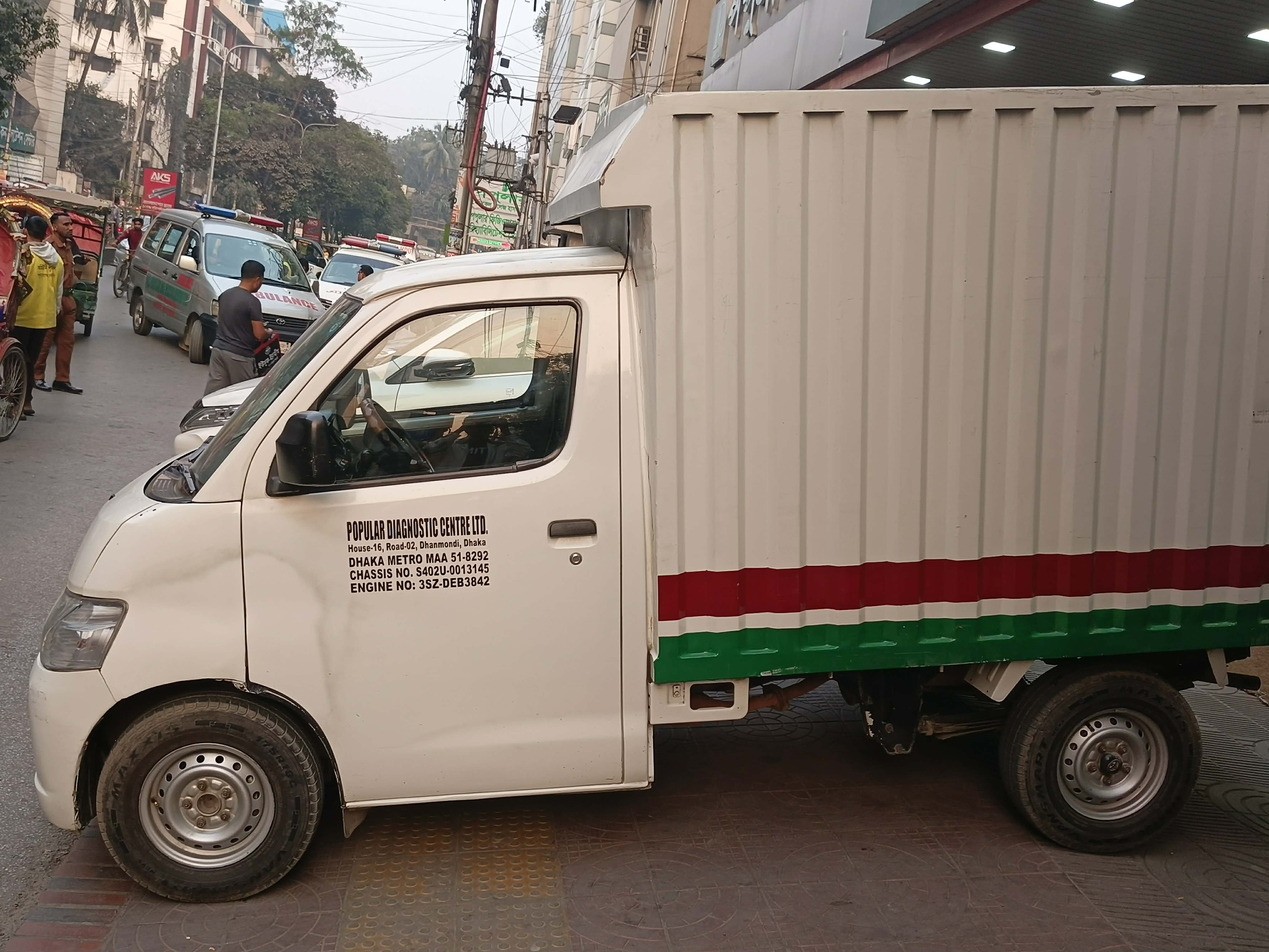Pickup: (28, 82, 1269, 904)
